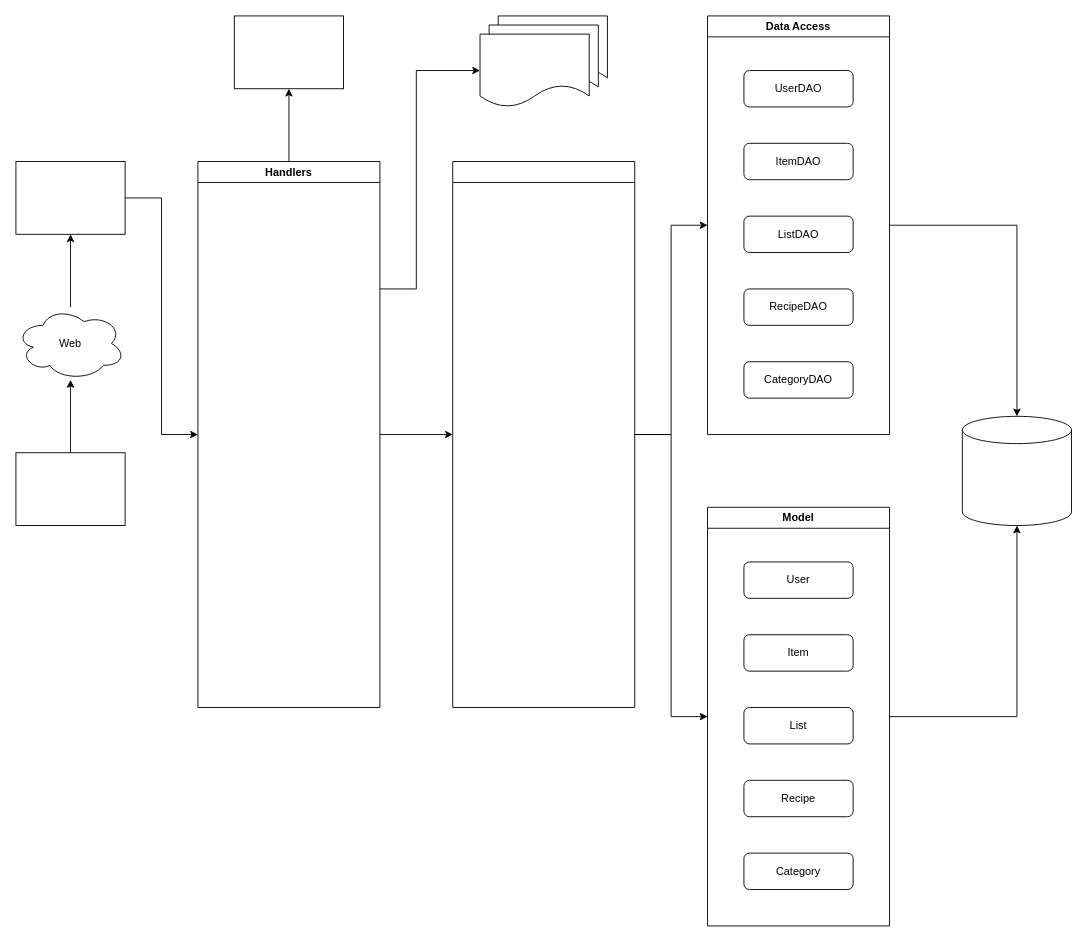
Image size: 1087x942. Some labels were removed from this diagram. The shapes that lost their labels are listed below. From the top down, each one's centre as x and y in pixels, then its label:
At [288,52]: "Json Encoding/Decoding".
At [534,70]: "Web Site Files".
At [70,197]: "Main Server".
At [543,434]: "Services".
At [70,489]: "Client App".
At [1016,470]: "Database".
